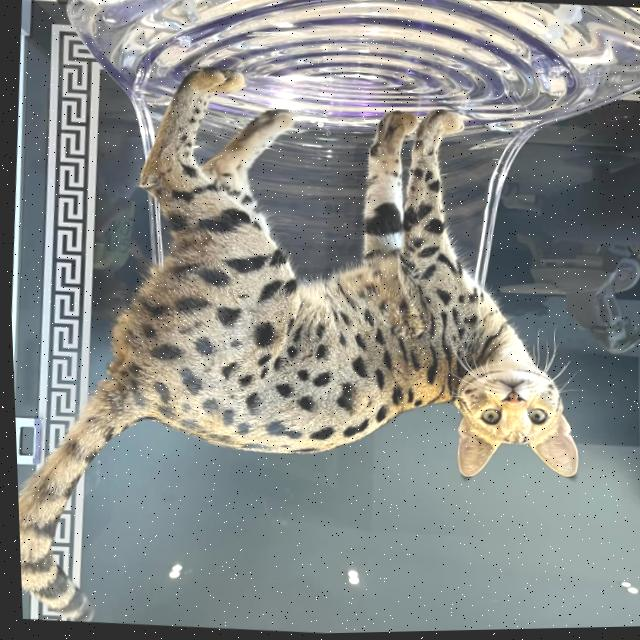Savannah: (2, 45, 610, 640)
